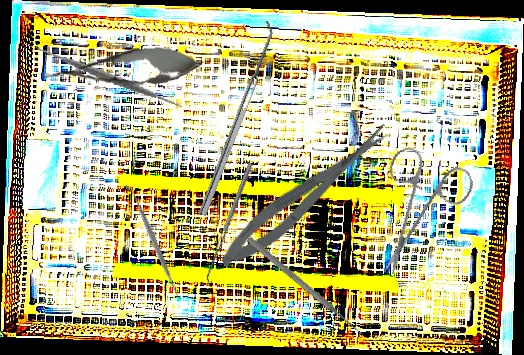Iris Scissors: (345, 130, 494, 277)
Micro Scissor: (211, 117, 401, 277), (37, 42, 206, 96)
Pusher: (245, 235, 365, 338)
Spatula Surgical: (33, 0, 185, 154), (190, 19, 280, 217), (122, 181, 186, 303), (202, 162, 257, 288)
